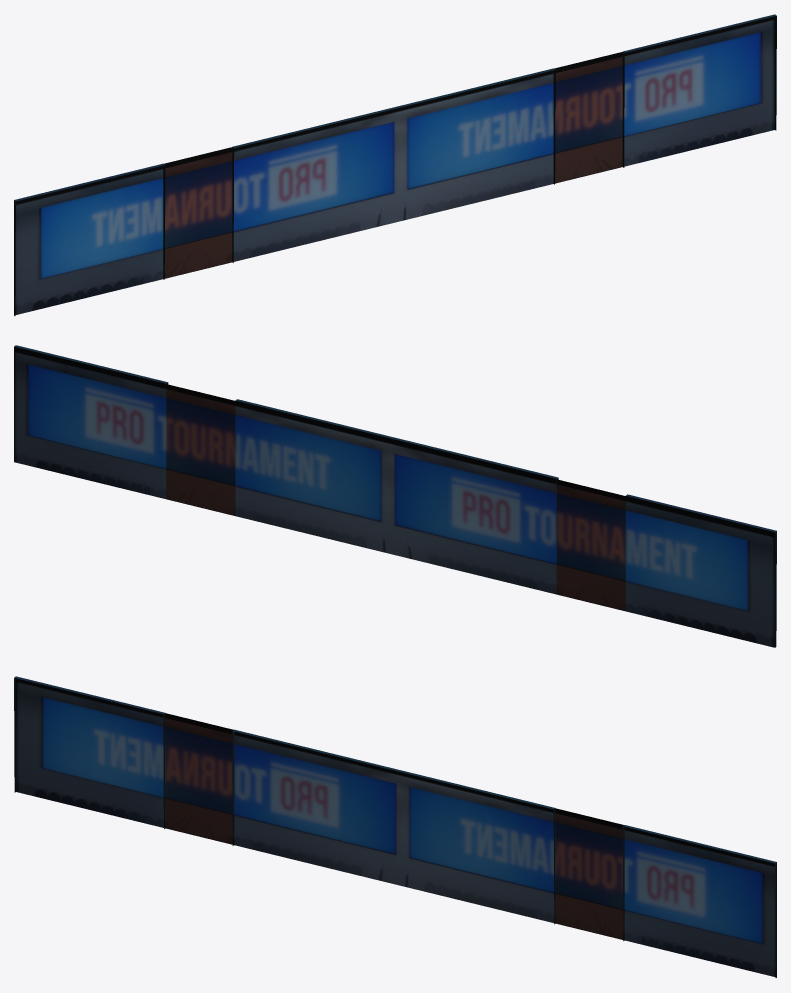
The model's file is FUS0210006.fbx.
The picture shows the model from 3 angles, top to bottom: view 1: azimuth 30°, elevation 25°; view 2: azimuth 150°, elevation 25°; view 3: azimuth 330°, elevation 25°; orthographic projection.
Visible parts, largest first — view 1: smFUS0210006; view 2: smFUS0210006; view 3: smFUS0210006.
Part boxes in pixels (x1,y1,x2,y2): smFUS0210006: (14, 14, 776, 315); smFUS0210006: (14, 345, 776, 647); smFUS0210006: (14, 676, 776, 977).
Size of the model in its own units: 3493 by 507 by 15.73.
2 materials, 2 textured.
